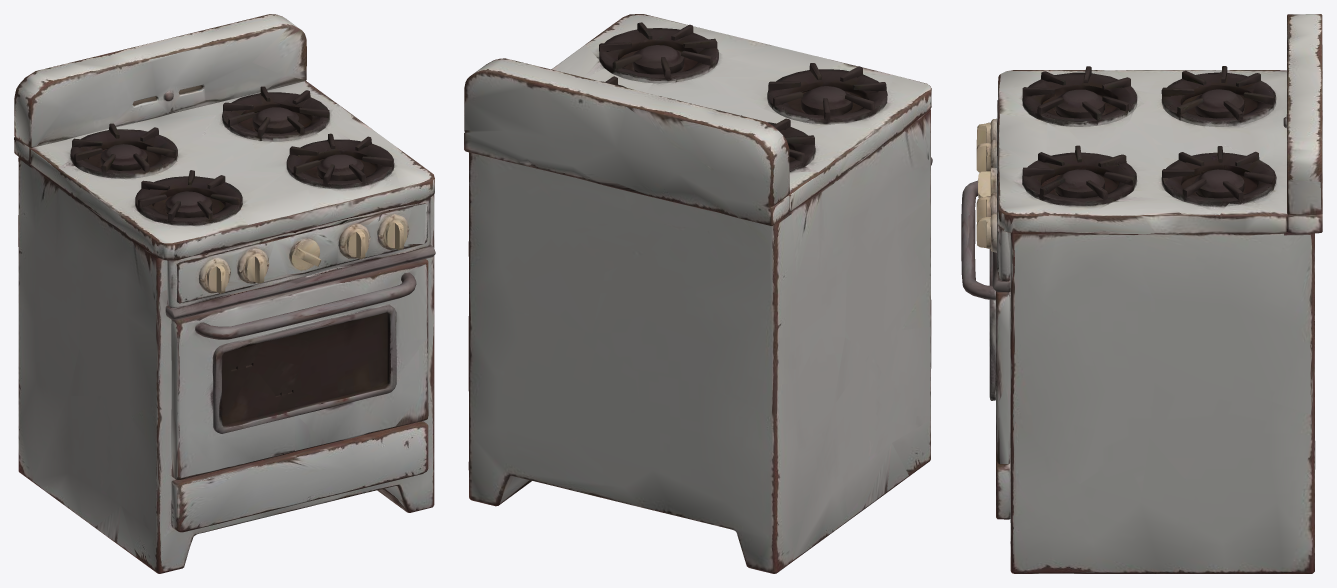
The model's file is stove_cook_gazovaya.glb.
The picture shows the model from 3 angles, left to right: view 1: azimuth 30°, elevation 25°; view 2: azimuth 150°, elevation 25°; view 3: azimuth 270°, elevation 25°; orthographic projection. The views are drawn at different scales.
Visible parts, largest first — view 1: body, oven_door; view 2: body; view 3: body, oven_door.
Boxes of the visible parts, left/top/right/bottom form: body: left=14, top=14, right=435, bottom=573; oven_door: left=186, top=261, right=418, bottom=477; body: left=464, top=14, right=932, bottom=573; body: left=976, top=14, right=1322, bottom=573; oven_door: left=961, top=180, right=995, bottom=400.
Bounding box in the file's own units: 0.6627 × 0.8999 × 0.6924.
6 materials, 3 textured.
